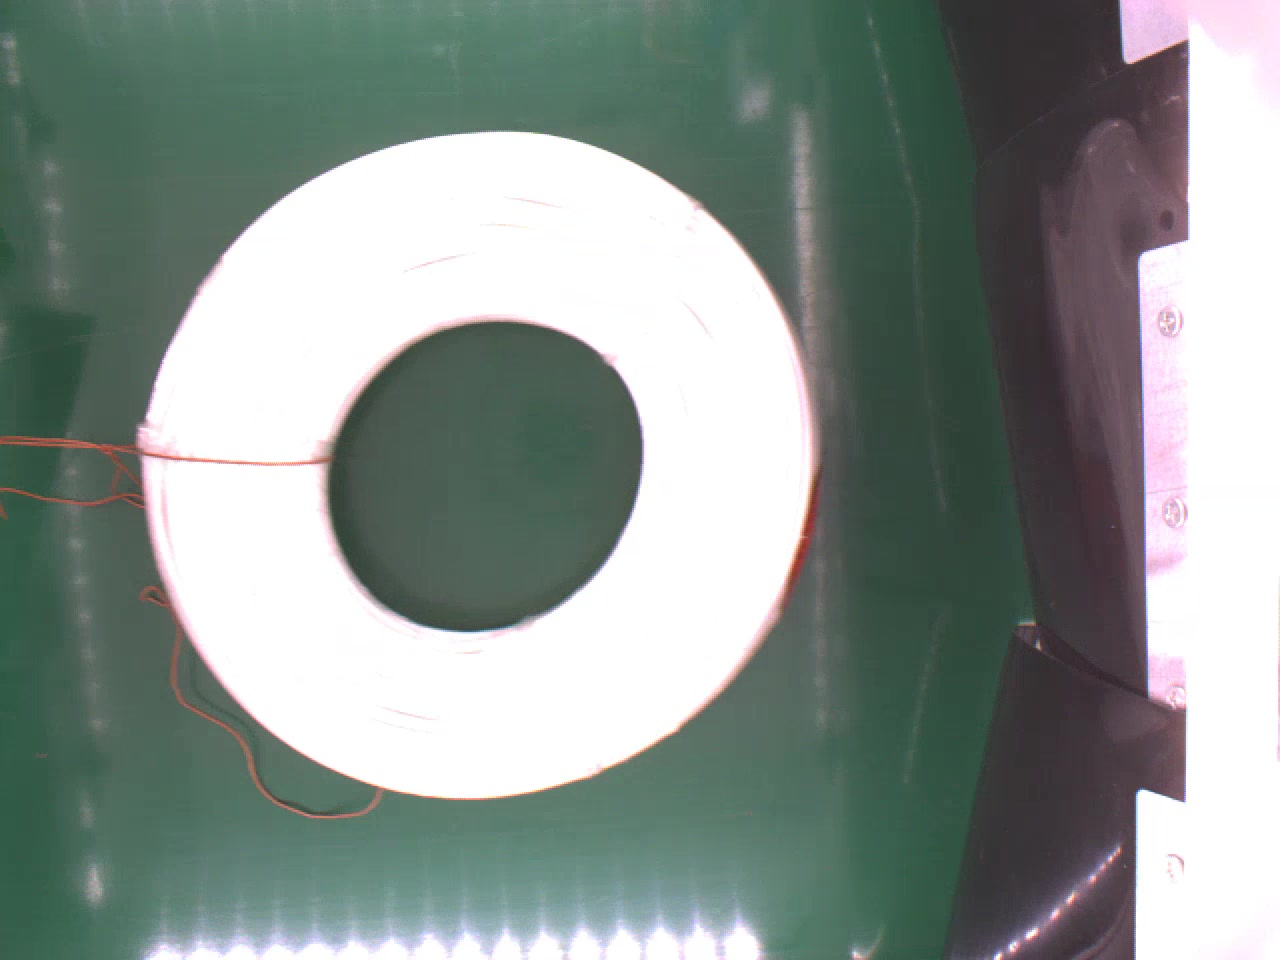white: (142, 127, 828, 798)
